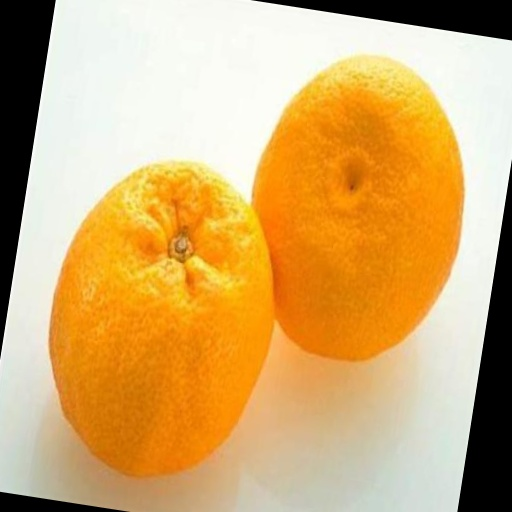fruit: (49, 162, 273, 476), (253, 55, 463, 360)
